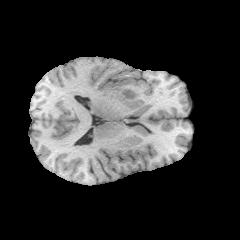glioma: (113, 76, 147, 104)
